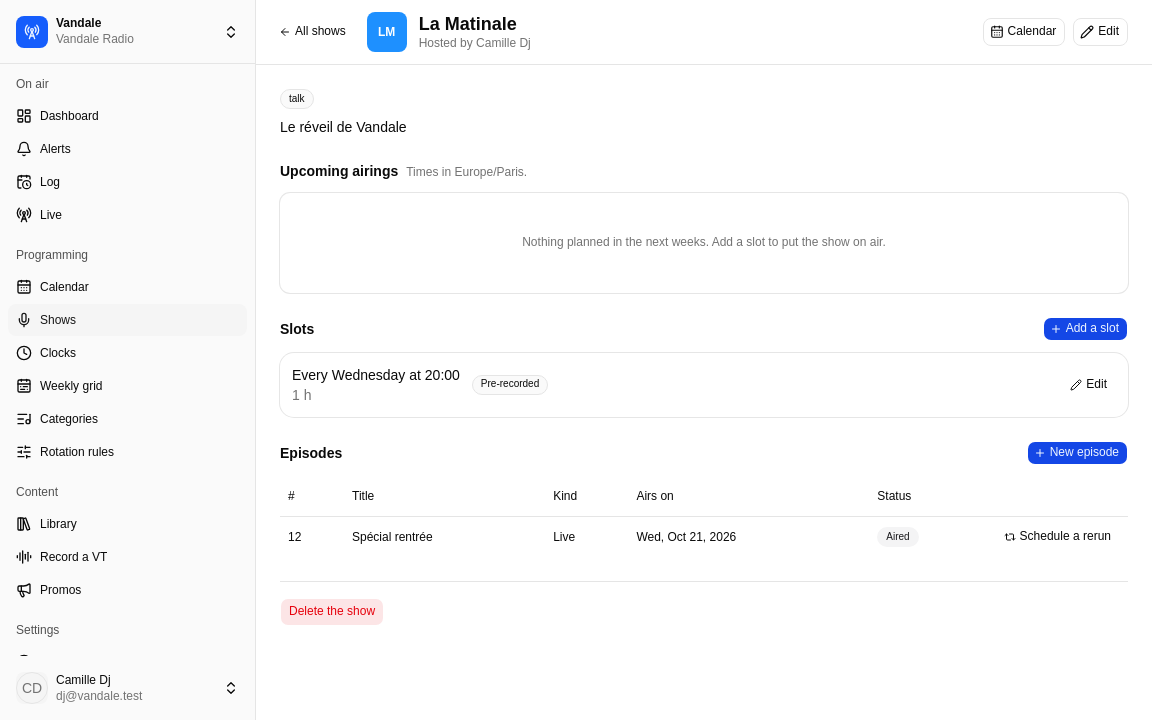
it: show page › offers the recording over other audio a build kept, and says when it cannot be read (#67)
Click the button named "Episode #12". click: [295, 537]
box: top-left (288, 529), bottom-right (301, 545)
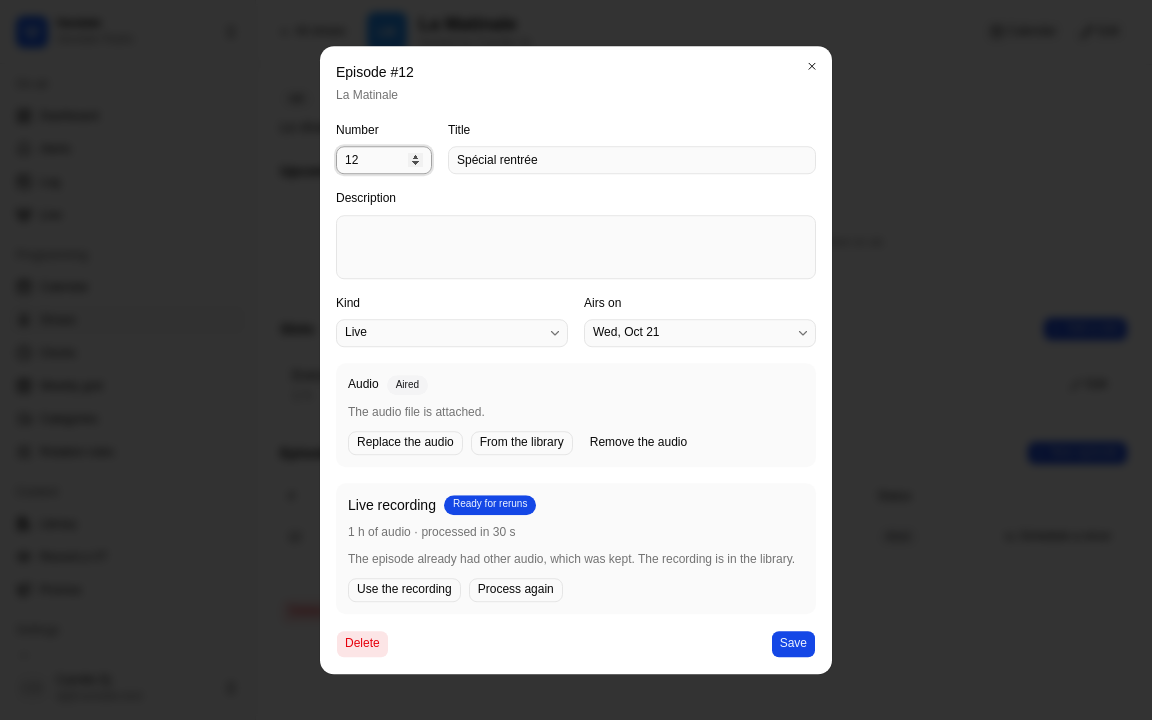
Expected: the text "The episode already had other audio, which was kept" is shown, top-left (348, 552), bottom-right (795, 566)
Click the button "Use the recording". click: [404, 590]
box: top-left (348, 578), bottom-right (461, 602)
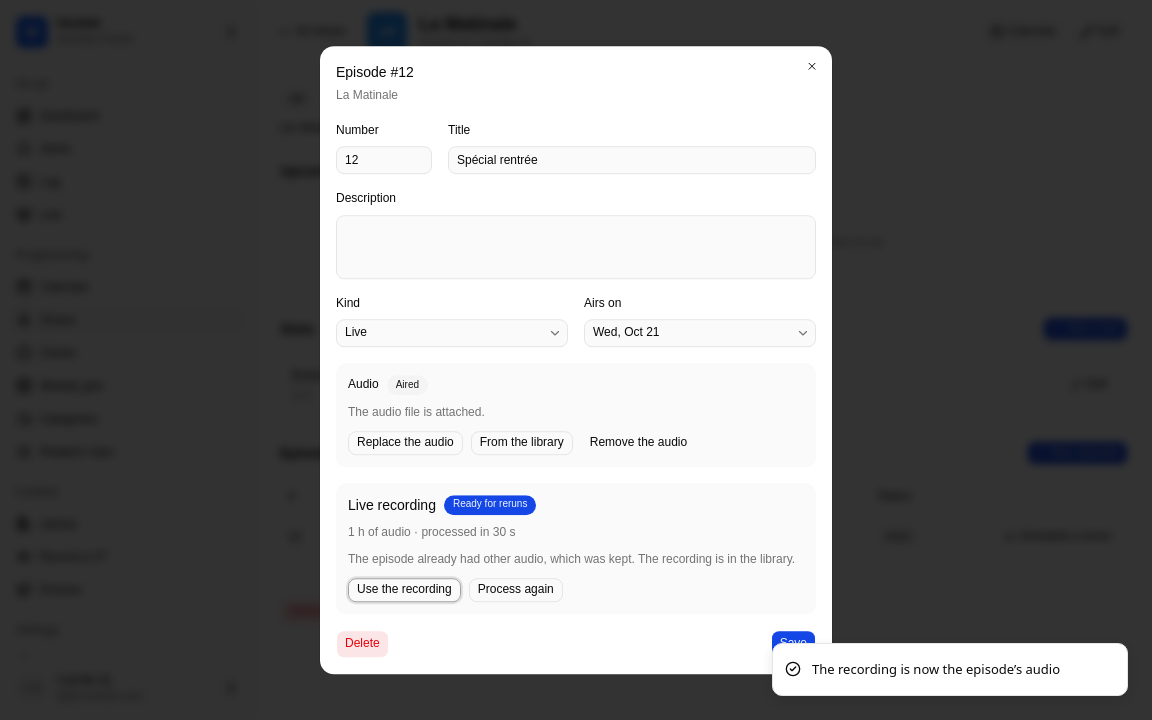
Expected: the text "The recording is now the episode’s audio" is shown, top-left (812, 660), bottom-right (1060, 679)
